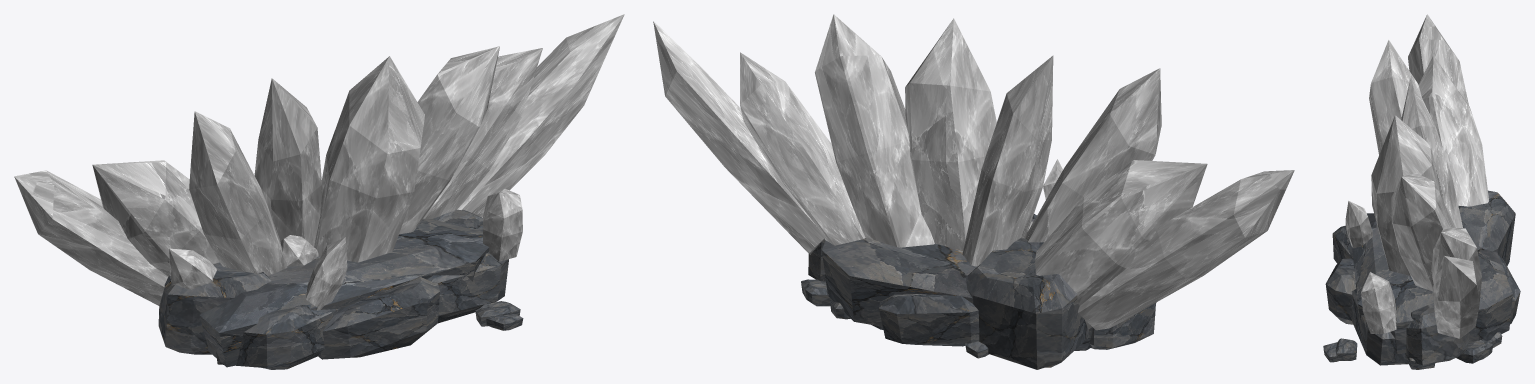
File: Ore_Y3.fbx
3 views of the same model, side by side, from view 1: azimuth 30°, elevation 25°; view 2: azimuth 150°, elevation 25°; view 3: azimuth 270°, elevation 25° (orthographic). The views are drawn at different scales.
Visible parts, largest first — view 1: Ore_Y3_LOD0; view 2: Ore_Y3_LOD0; view 3: Ore_Y3_LOD0.
Boxes of the visible parts, left/top/right/bottom form: Ore_Y3_LOD0: left=14, top=14, right=624, bottom=369; Ore_Y3_LOD0: left=653, top=14, right=1294, bottom=369; Ore_Y3_LOD0: left=1323, top=14, right=1520, bottom=369.
Size of what is drawn, in the model's own units: 3.04 by 1.26 by 1.04.
Materials: 2 (2 with a texture image).
